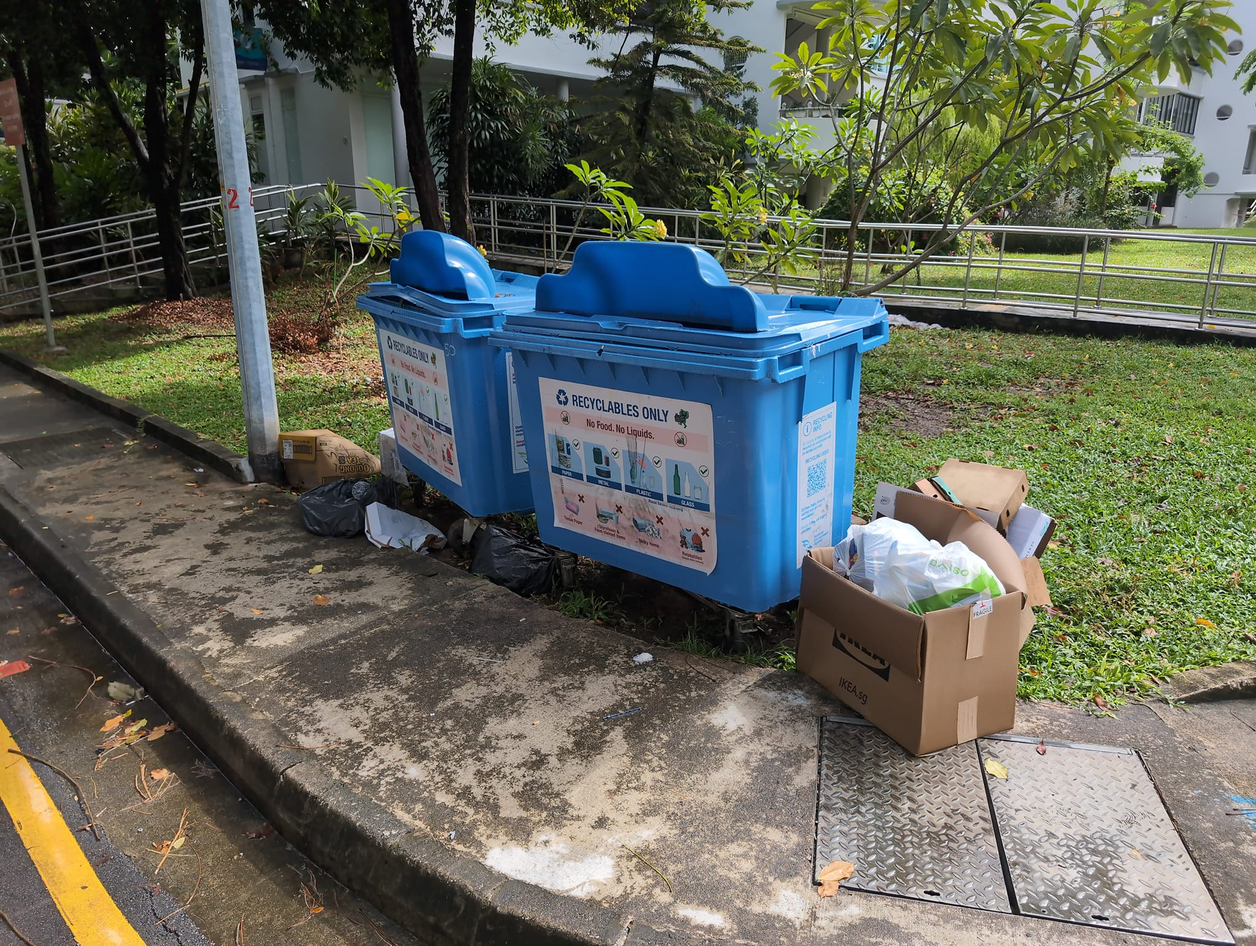bin_empty: (491, 244, 888, 611), (358, 229, 537, 514)
bulk_waste: (798, 493, 1046, 755), (933, 458, 1055, 556), (279, 430, 380, 490)
normal_waste: (470, 525, 556, 596), (297, 479, 378, 537), (366, 502, 445, 553)
